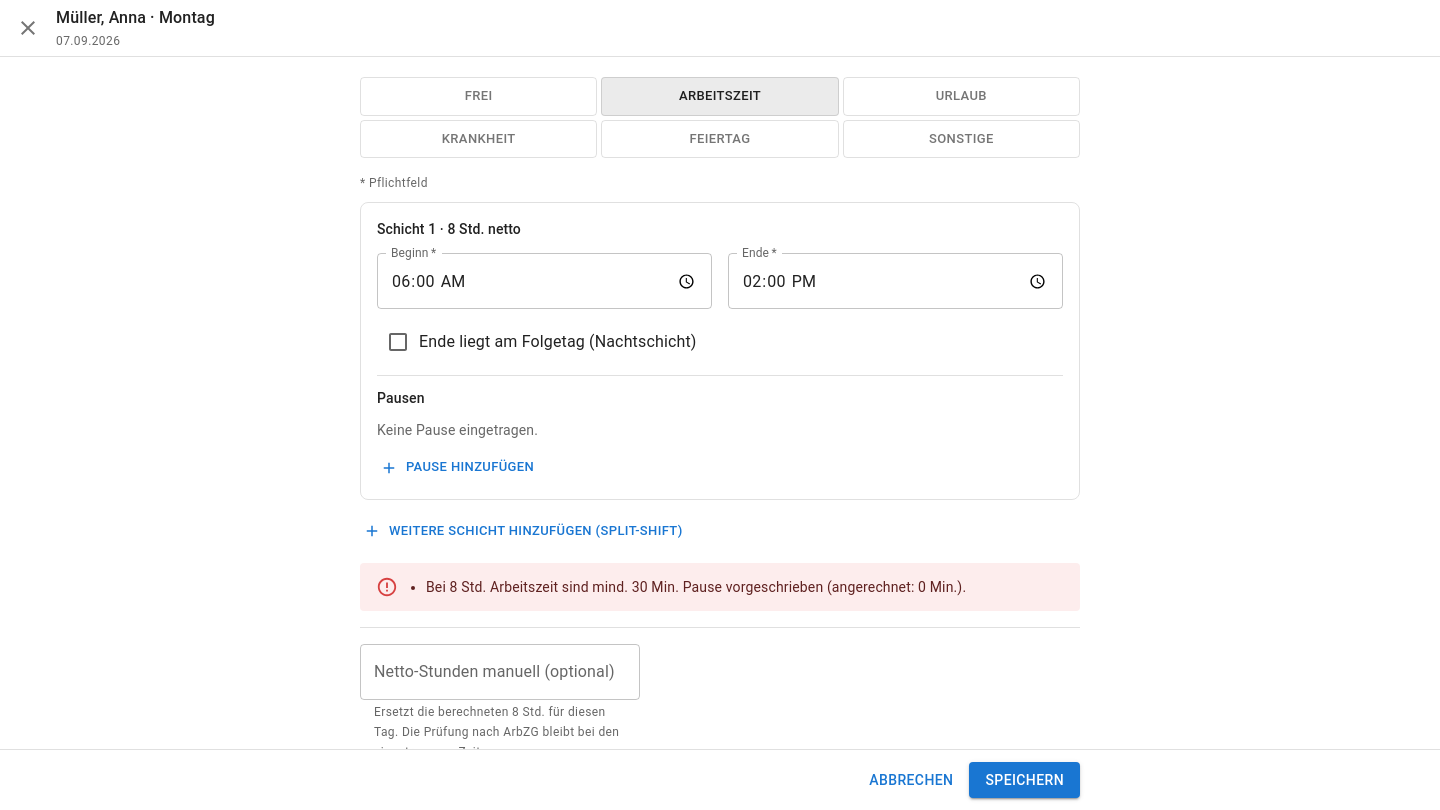
Test: DayEditor › keeps a cleared start time empty, marks it and refuses to save until it is filled
Clear the time field labelled "Beginn *" at (544, 281), box [377, 253, 712, 309]
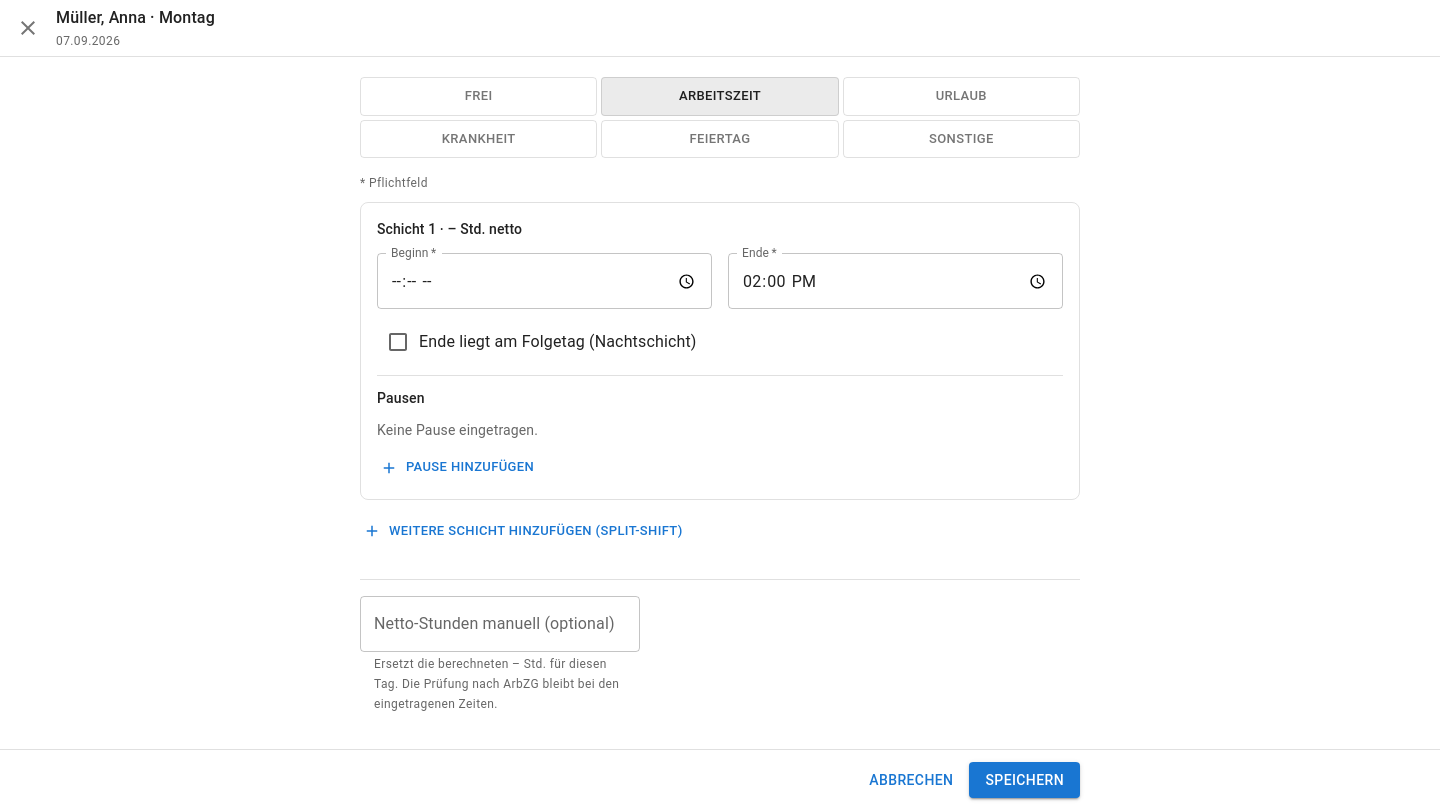
Expected: the heading "Schicht 1 · – Std. netto" is shown, [377, 219, 522, 241]
Click the button "Speichern" at (1025, 780), box [969, 762, 1080, 798]
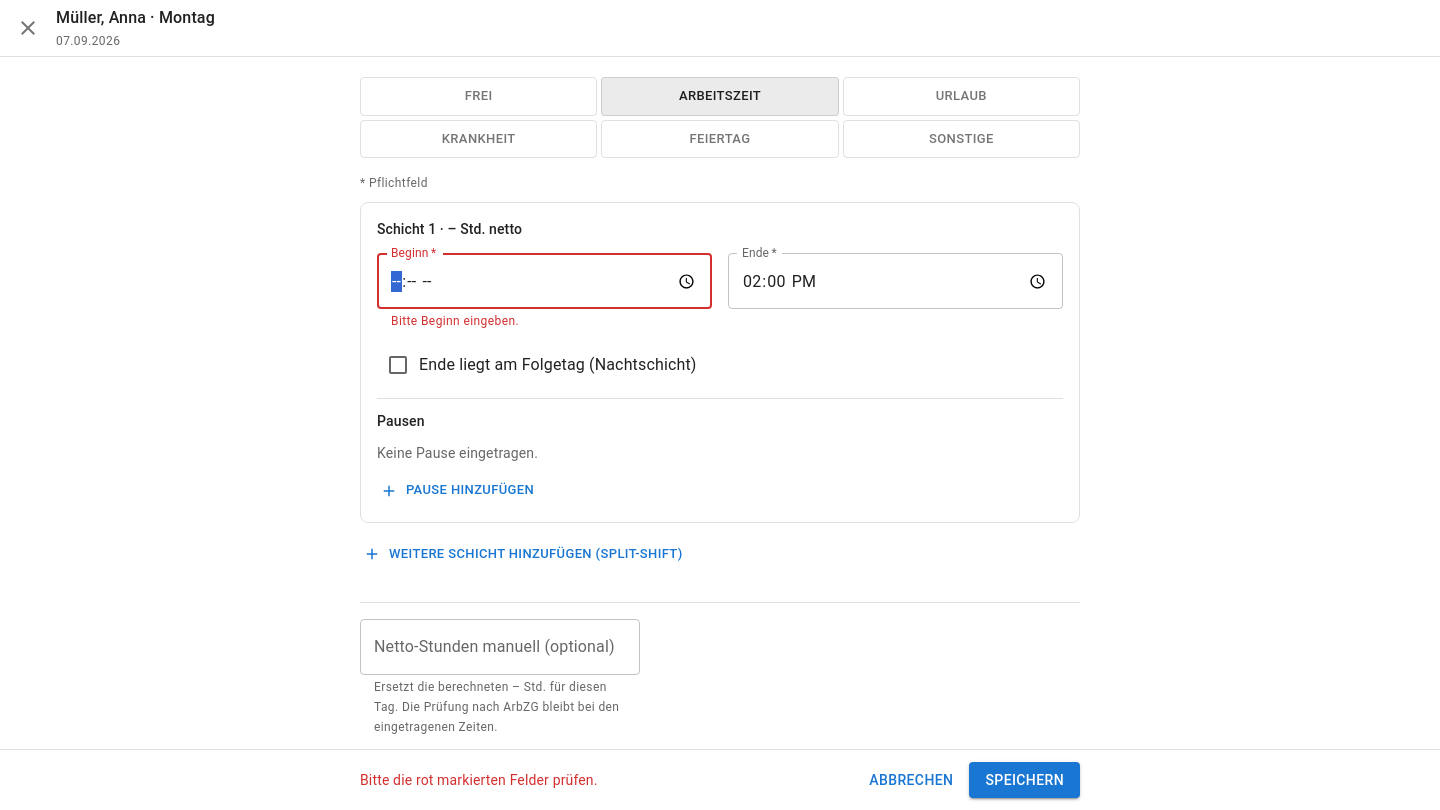
Expected: the text "Bitte Beginn eingeben." is shown, [391, 314, 519, 328]
Type "08:00" into the time field labelled "Beginn *" at (544, 281), box [377, 253, 712, 309]
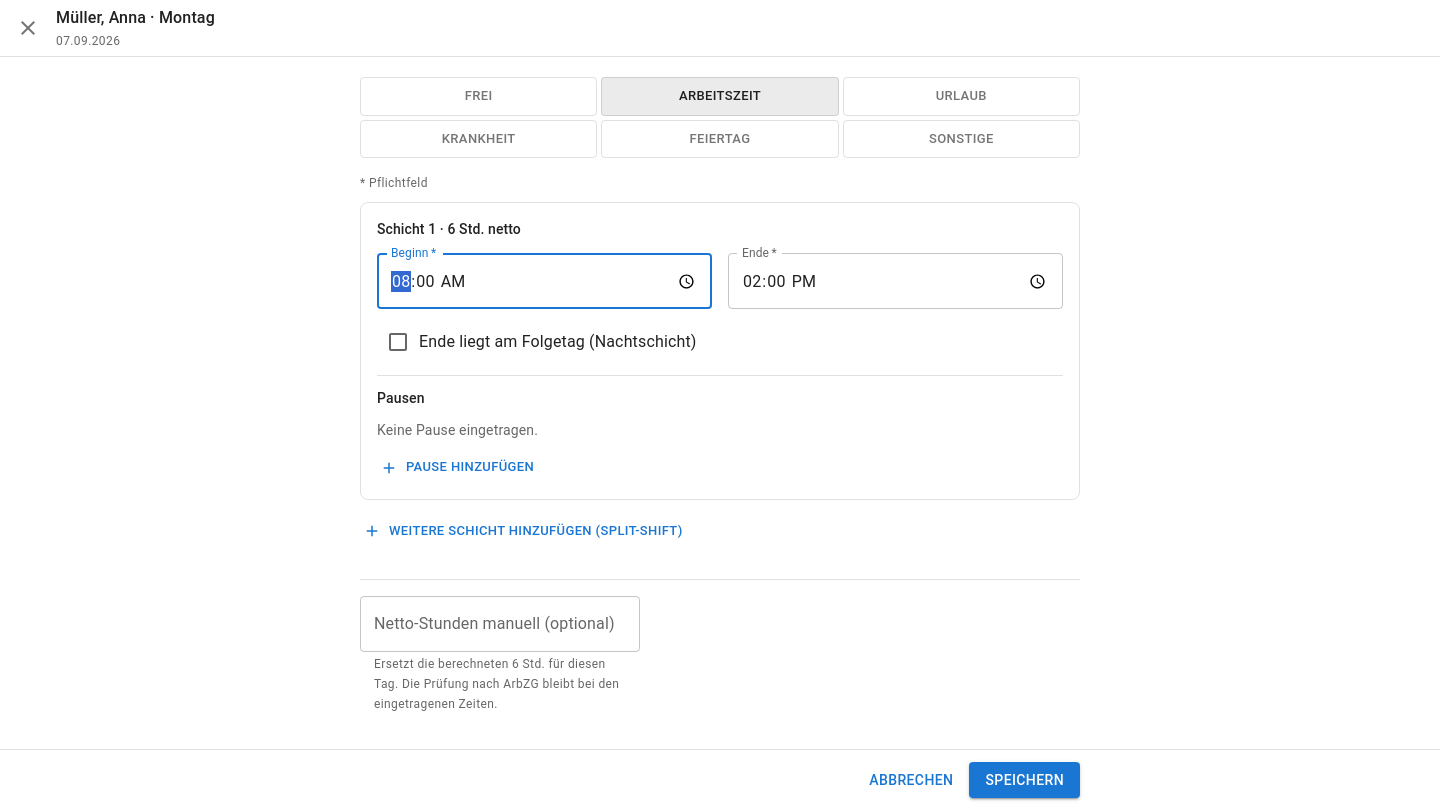
Expected: the text "Bitte Beginn eingeben." is gone
Expected: the heading "Schicht 1 · 6 Std. netto" is shown, [377, 219, 521, 241]
